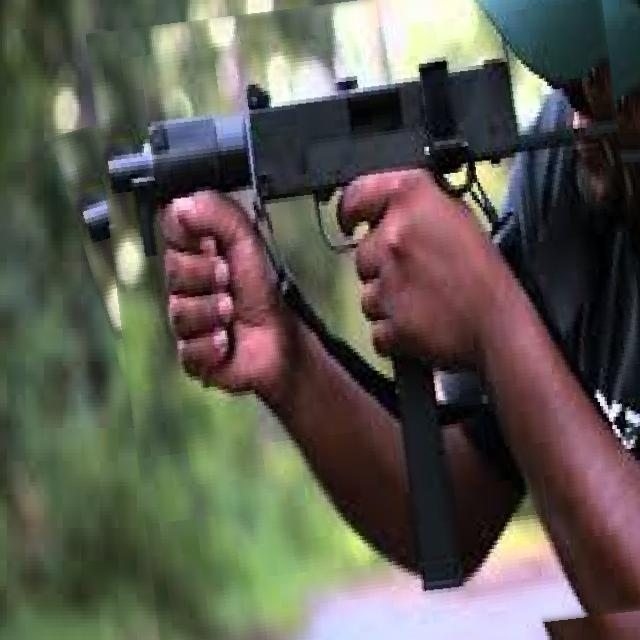Gun_Holder: (101, 55, 624, 487)
